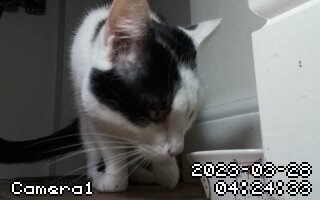bad: (60, 3, 222, 192)
